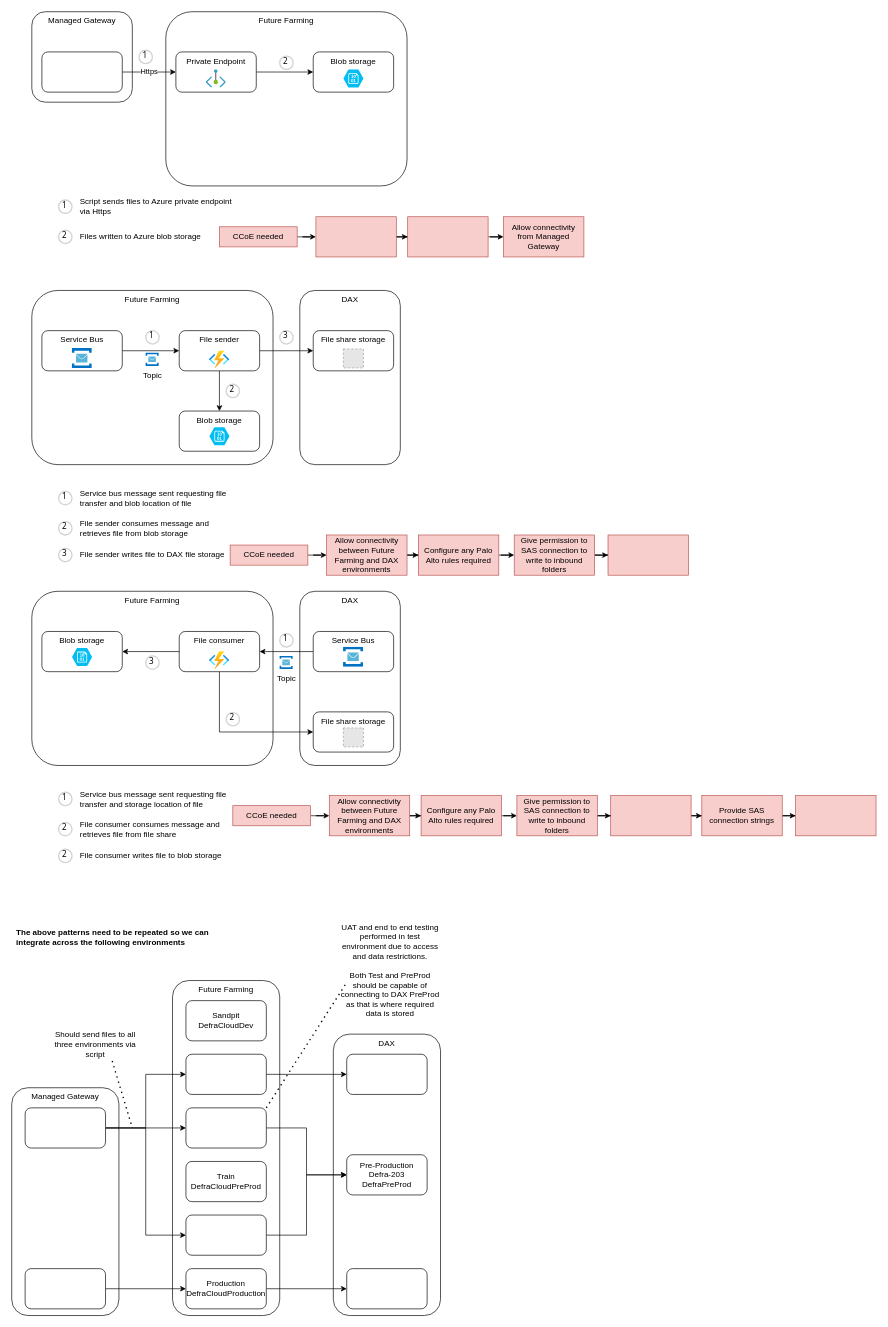
The diagram is 888 pixels wide and 1327 high, and some of its shapes have lost their labels. Grey dashed boxes stand in for pictures. Here are the shapes that lost their labels. From the top down, the centre of each, then its label:
At (x=81, y=71): "Transfer script (wget)".
At (x=355, y=236): "Setup private endpoint and share details with ATOS".
At (x=447, y=236): "Support update of blob deployments to use private endpoint".
At (x=647, y=554): "Provide SAS connection string for file storage".
At (x=650, y=815): "Give permission to SAS connection for consuming from service bus".
At (x=835, y=815): "Update DAX pipelines to deploy new service bus infrastructure".
At (x=225, y=1074): "Development DefraCloudDev".
At (x=386, y=1074): "Development defradev-SAT DefraDev".
At (x=65, y=1127): "Test hgmg-test".
At (x=225, y=1127): "Test DefraCloudDev".
At (x=225, y=1234): "Pre-Production DefraCloudPreProd".
At (x=65, y=1288): "Production hgmg-live".
At (x=386, y=1288): "Production DefraProd".
